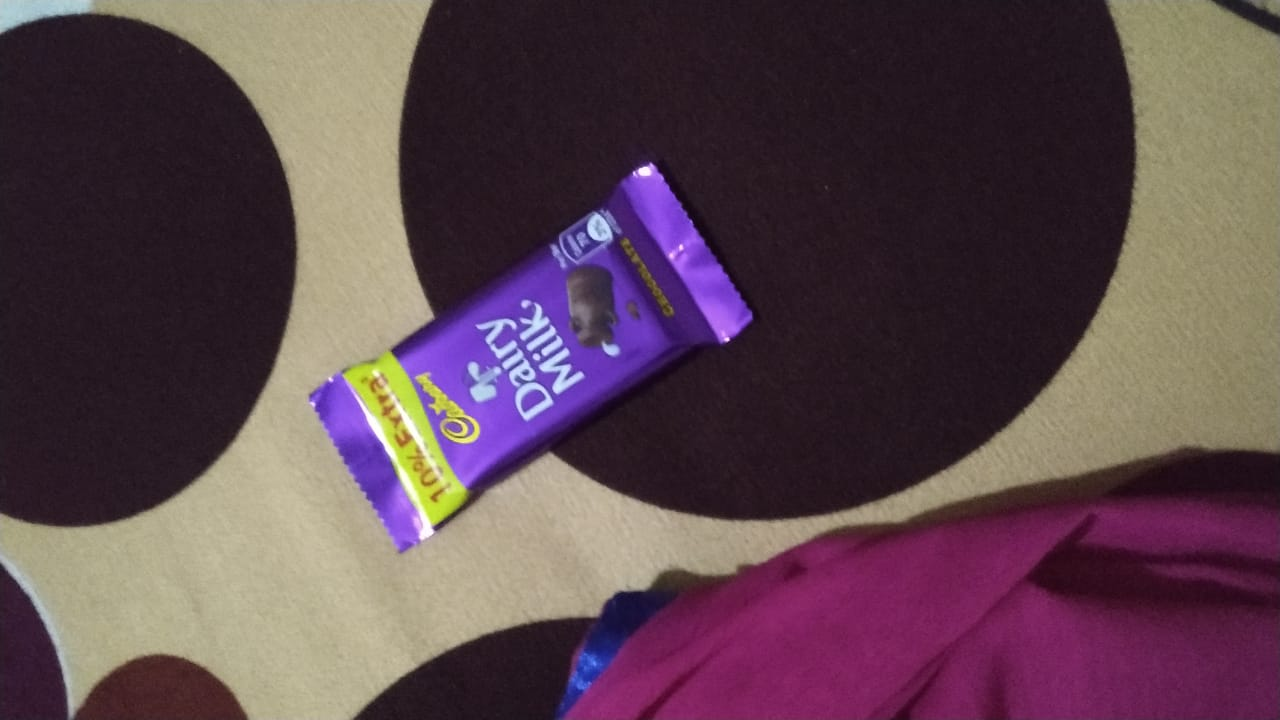dairy milk: (313, 162, 756, 554)
